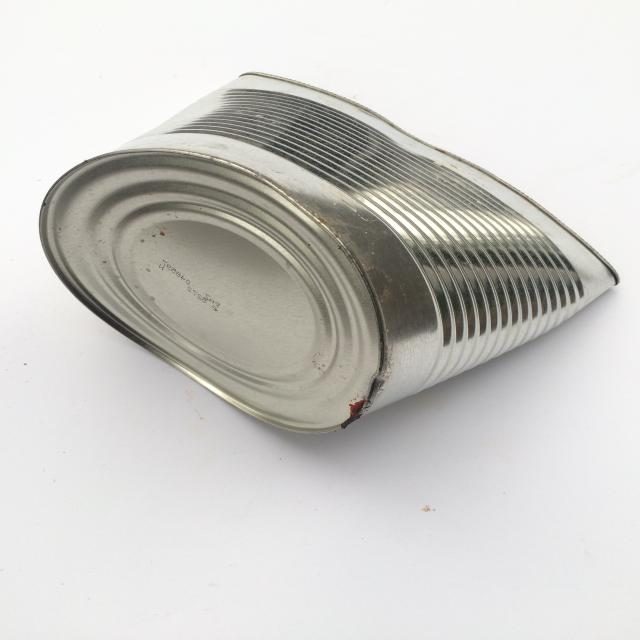metal: (38, 70, 621, 434)
